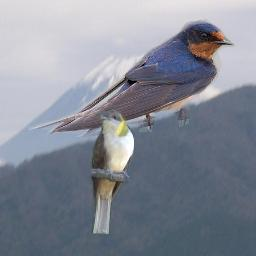Cuckoo: (89, 109, 134, 234)
Swallow: (28, 19, 235, 137)
